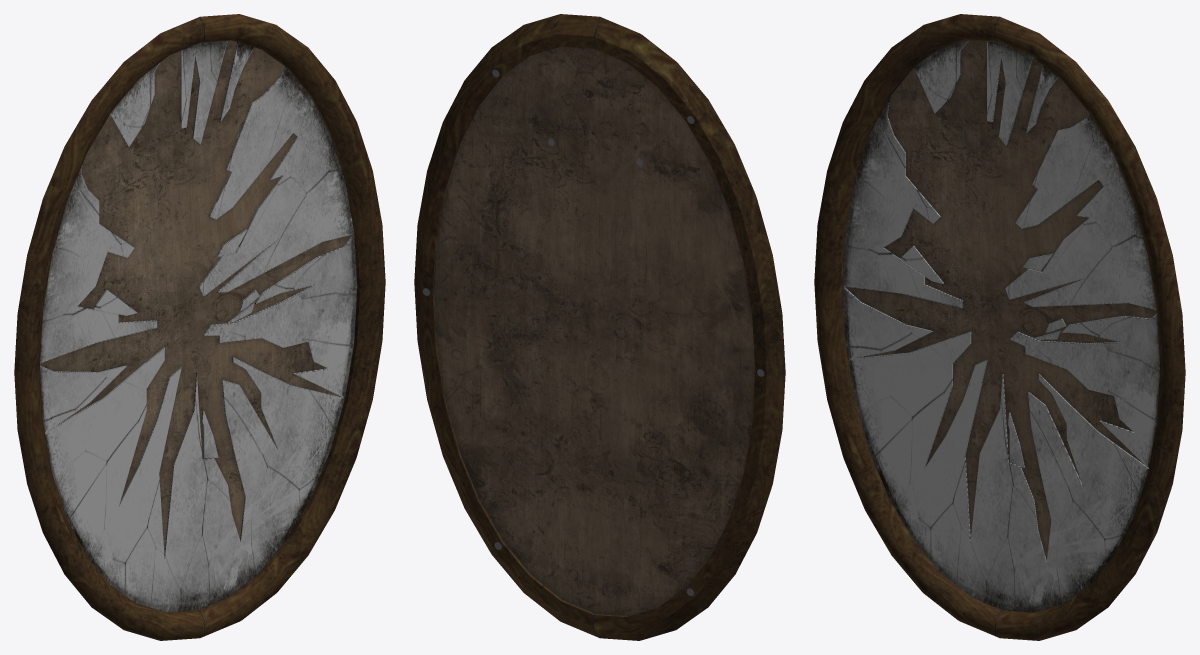
The model's file is broken_mirror.glb.
3 renders of one model, left to right at view 1: azimuth 30°, elevation 25°; view 2: azimuth 150°, elevation 25°; view 3: azimuth 330°, elevation 25°, orthographic.
Visible parts, largest first — view 1: defaultMaterial (×2); view 2: defaultMaterial; view 3: defaultMaterial (×2).
Boxes of the visible parts, x1,y1,x2,y2 form: defaultMaterial (×2): [14, 14, 385, 640]; defaultMaterial: [414, 14, 785, 640]; defaultMaterial (×2): [814, 14, 1185, 640].
Size of the model in its own units: 1.25 by 2 by 0.0619.
Materials: 2 (2 with a texture image).
